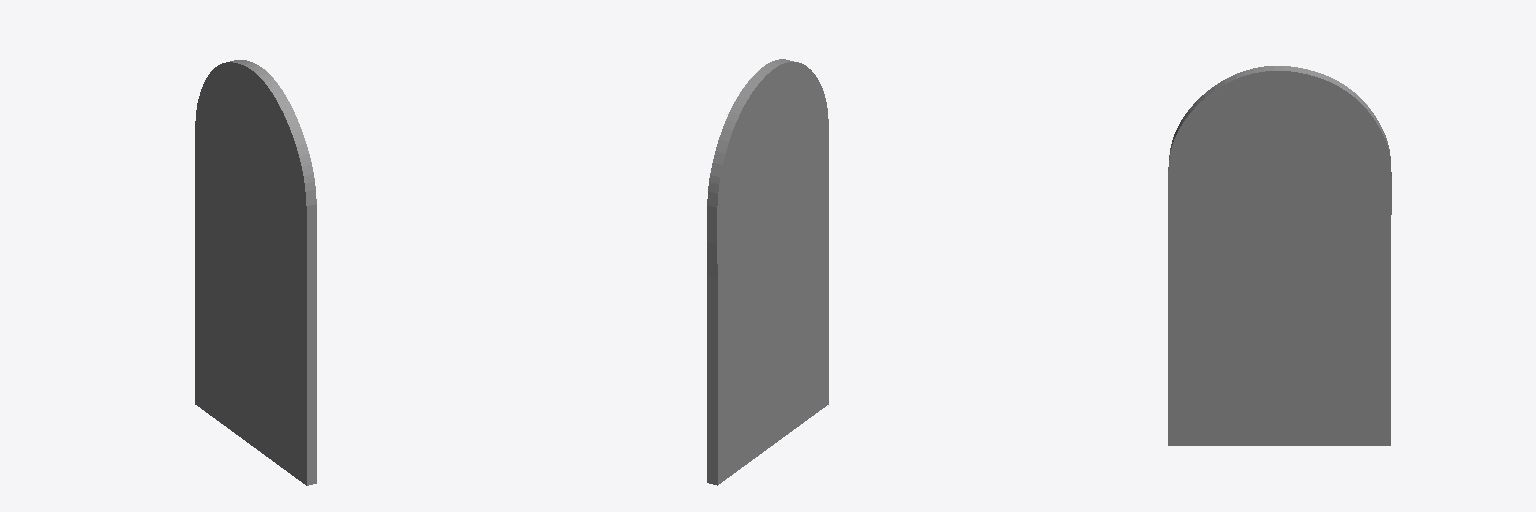
File: door_opened.obj
3 renders of one model, left to right at view 1: azimuth 30°, elevation 25°; view 2: azimuth 150°, elevation 25°; view 3: azimuth 270°, elevation 25°, orthographic.
Parts seen in each view (by area): view 1: Extrude_NURBS_1; view 2: Extrude_NURBS_1; view 3: Extrude_NURBS_1.
Part boxes in pixels (left/top/right/bottom): Extrude_NURBS_1: left=195, top=60, right=316, bottom=485; Extrude_NURBS_1: left=707, top=59, right=828, bottom=485; Extrude_NURBS_1: left=1168, top=66, right=1391, bottom=445.
Bounding box in the file's own units: 0.3104 × 10.71 × 5.78.